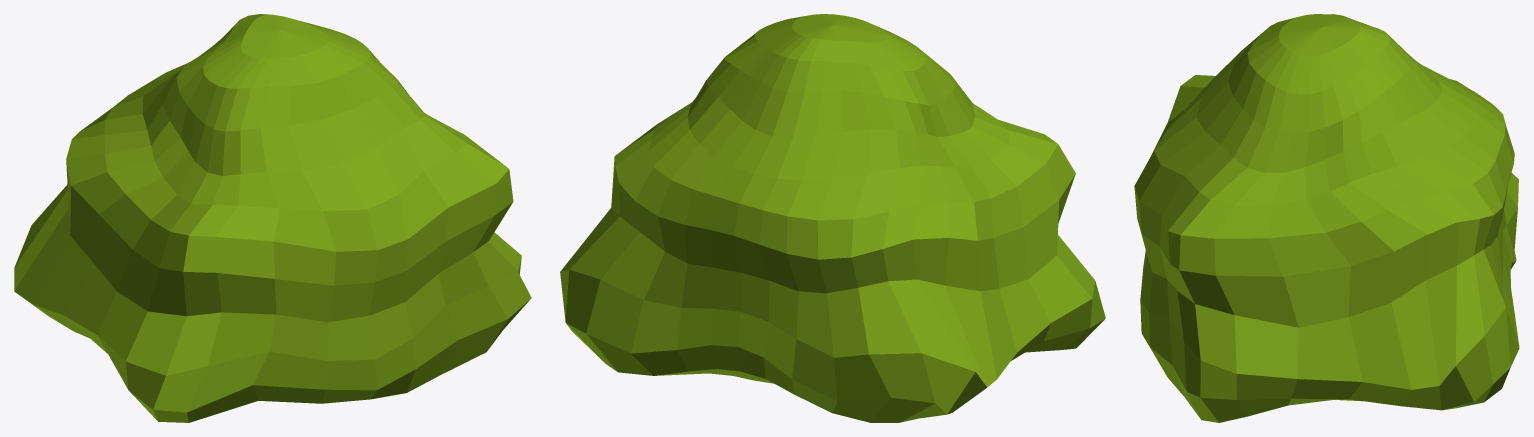
The model's file is tree-summer-leaves-027.glb.
The picture shows the model from 3 angles, left to right: view 1: azimuth 30°, elevation 25°; view 2: azimuth 150°, elevation 25°; view 3: azimuth 270°, elevation 25°; orthographic projection. The views are drawn at different scales.
Visible parts, largest first — view 1: Plane.001_256; view 2: Plane.001_256; view 3: Plane.001_256.
Part boxes in pixels (<box>): Plane.001_256: <box>14,14,531,422</box>; Plane.001_256: <box>560,14,1105,422</box>; Plane.001_256: <box>1134,14,1519,422</box>.
Size of the model in its own units: 1.11 by 0.8445 by 0.8905.
